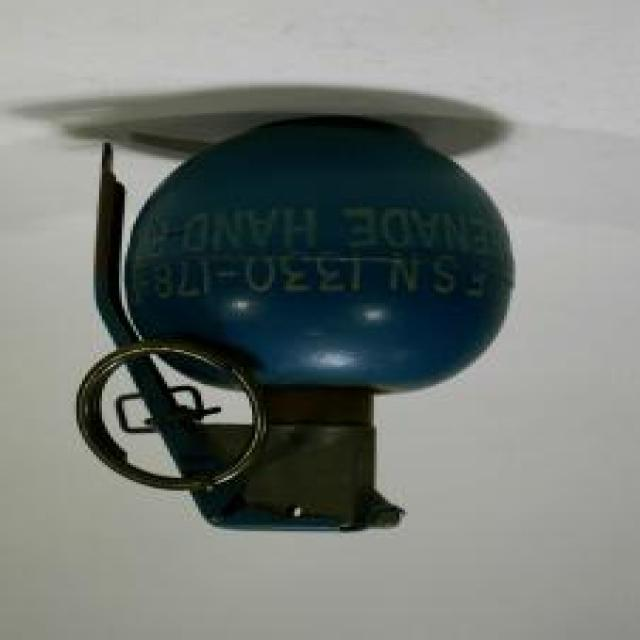grenade: (78, 120, 522, 532)
